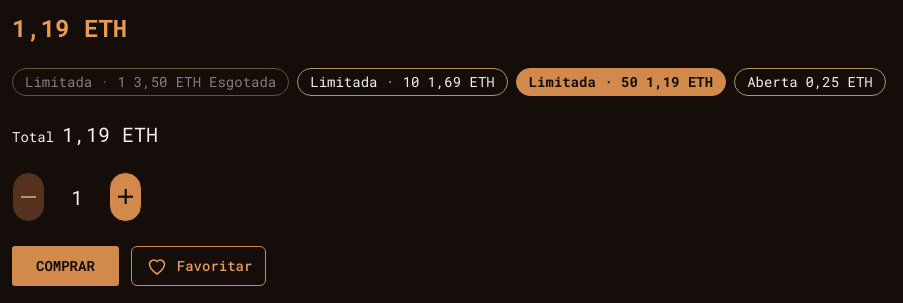
Test: NftPurchasePanel (pt-BR) › stepper: minimo 1 (diminuir desabilitado) e aumentar incrementa
This screenshot has width=903, height=303.
expect the button named "Diminuir quantidade" is disabled: met, box [12,172,45,222]
Click the button named "Aumentar quantidade".
click(126, 197)  # box [109,172,142,222]
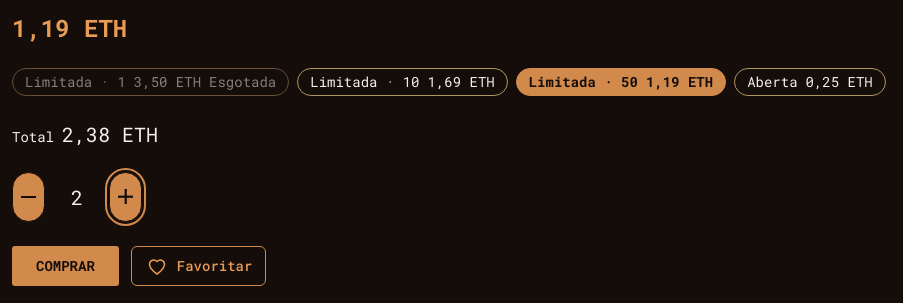
expect the number field named "Quantidade" holds "2": met, box [57,183,97,211]
expect the button named "Diminuir quantidade" is enabled: met, box [12,172,45,222]
